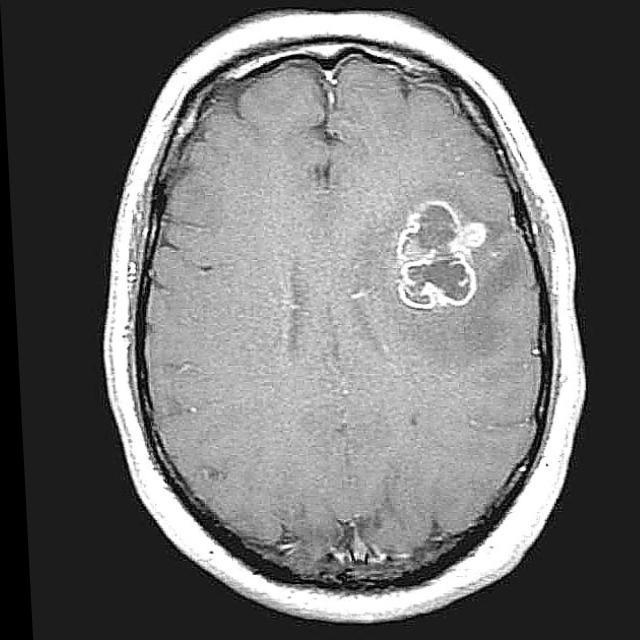Tumor: (394, 201, 484, 310)
